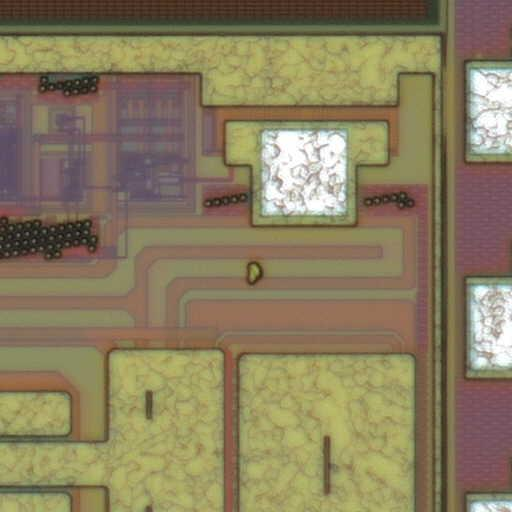BLOCK ETCH: (234, 256, 270, 292)
